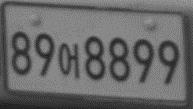8: (83, 36, 106, 81), (108, 36, 130, 82), (11, 31, 32, 76)
9: (132, 37, 155, 84), (157, 40, 181, 85), (33, 32, 54, 77)
어: (57, 42, 79, 79)
